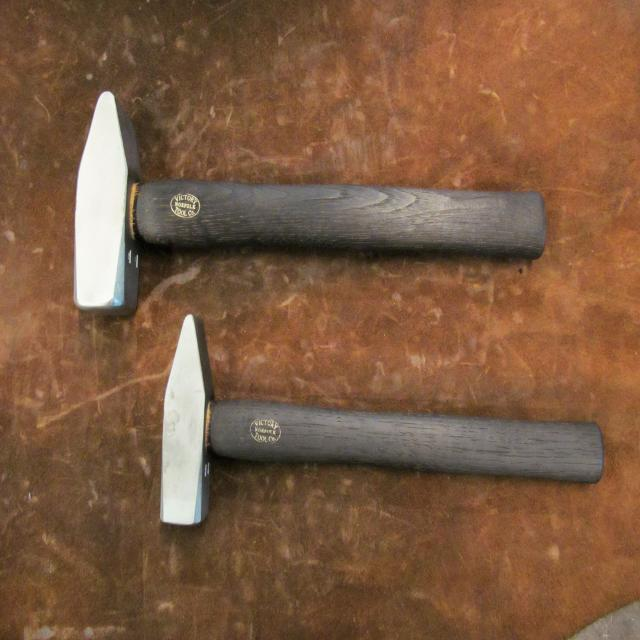hammer: (71, 86, 549, 320), (152, 314, 610, 536)
